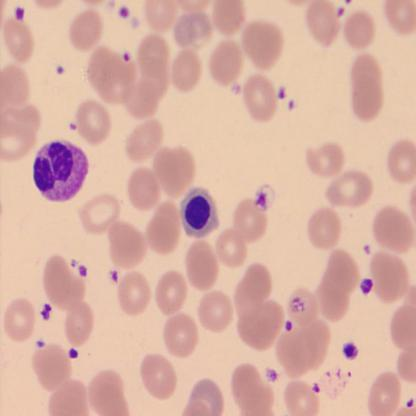NRC: (178, 185, 221, 240)
